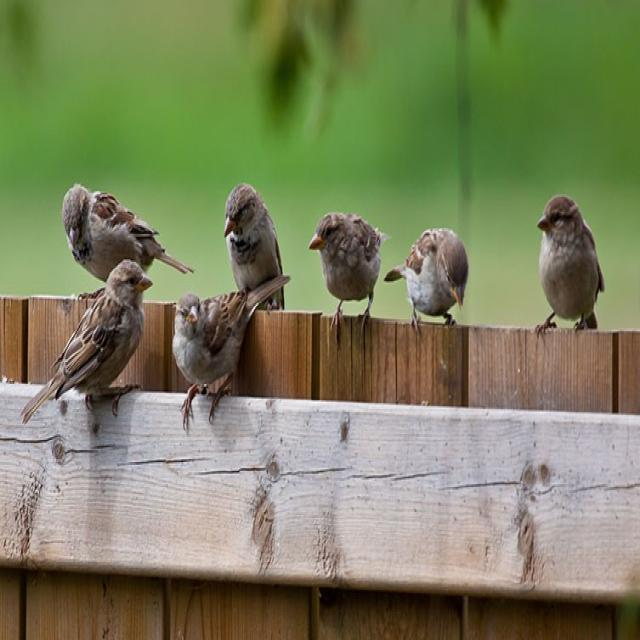bird: (172, 269, 292, 430), (55, 258, 159, 412), (56, 182, 185, 290), (531, 194, 610, 331), (217, 185, 295, 305), (390, 226, 477, 327), (307, 210, 388, 313)
